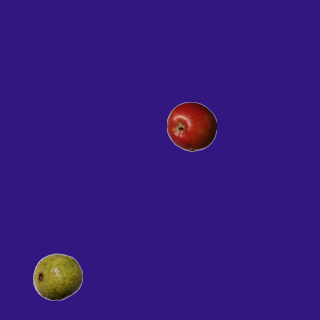Apple Braeburn: (166, 101, 216, 151)
Guava: (32, 251, 82, 301)
